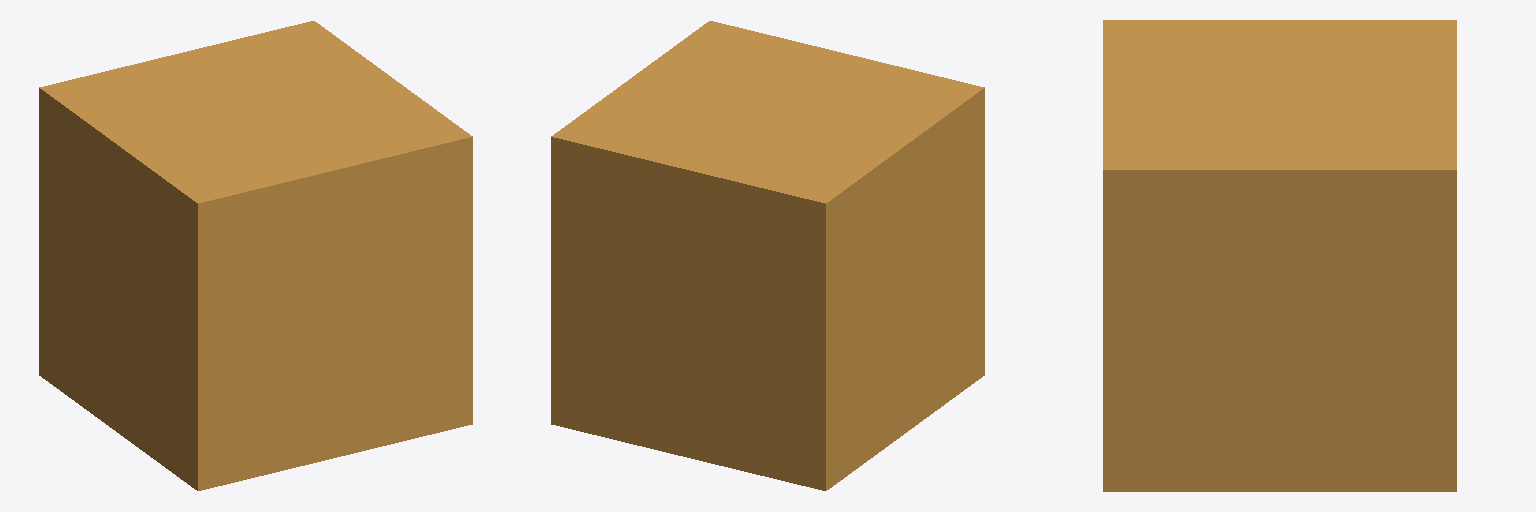
The robot description file, URDF, robot "object_cube_14cm":
<?xml version="1.0" ?>
<robot name="object_cube_14cm">
  <link name="baseLink">
    <inertial>
      <mass value="0.5"/>
      <origin xyz="0 0 0"/>
      <inertia ixx="0.000817" ixy="0" ixz="0" iyy="0.000817" iyz="0" izz="0.000817"/>
    </inertial>
    <contact>
      <lateral_friction value="0.8"/>
      <rolling_friction value="0.01"/>
      <stiffness value="30000"/>
      <damping value="1000"/>
    </contact>
    <visual>
      <origin rpy="0 0 0" xyz="0 0 0"/>
      <geometry>
        <box size="0.14 0.14 0.14"/>
      </geometry>
      <material name="mat">
        <color rgba="0.85 0.65 0.35 1"/>
      </material>
    </visual>
    <collision>
      <origin rpy="0 0 0" xyz="0 0 0"/>
      <geometry>
        <box size="0.14 0.14 0.14"/>
      </geometry>
    </collision>
  </link>
</robot>

--- Render facts (derived) ---
The picture shows the robot from 3 angles, left to right: view 1: azimuth 30°, elevation 25°; view 2: azimuth 150°, elevation 25°; view 3: azimuth 270°, elevation 25°; orthographic projection.
Robot: object_cube_14cm — 1 links, 0 joints (none); root link baseLink; default pose: every joint at zero.
Links seen in each view (by area): view 1: baseLink; view 2: baseLink; view 3: baseLink.
Link boxes in pixels (<box>): baseLink: <box>39,21,472,490</box>; baseLink: <box>551,21,984,490</box>; baseLink: <box>1103,20,1456,491</box>.
Bounding box of the posed robot: 0.14 × 0.14 × 0.14 m (x, y, z).
Geometry: primitives only (box / cylinder / sphere), no mesh files.
